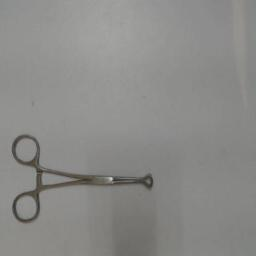Babcock Tissue Forceps: (10, 130, 154, 226)
